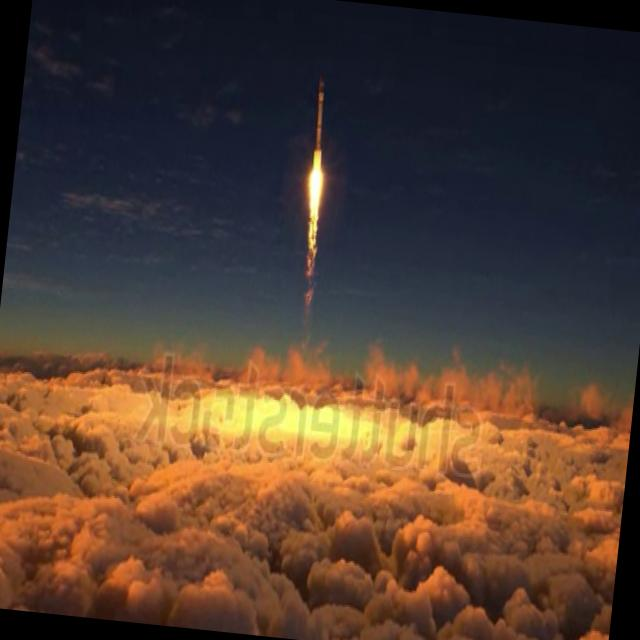rocket: (296, 76, 338, 298)
